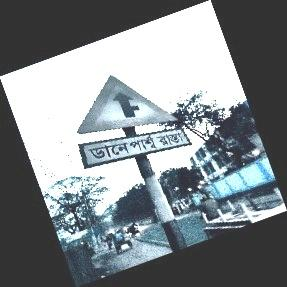Side-road-right: (76, 76, 187, 171)
